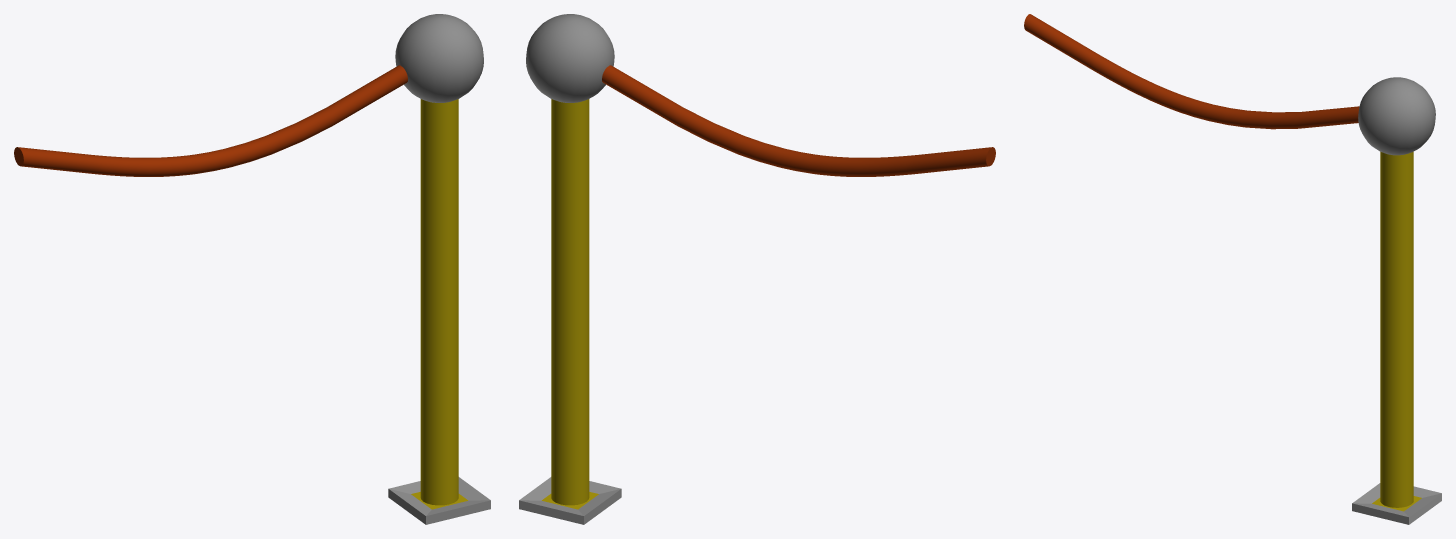
Rendered from Rail_1 Sided.fbx.
The picture shows the model from 3 angles, left to right: view 1: azimuth 30°, elevation 25°; view 2: azimuth 150°, elevation 25°; view 3: azimuth 330°, elevation 25°; orthographic projection. The views are drawn at different scales.
Visible parts, largest first — view 1: pCube3; view 2: pCube3; view 3: pCube3.
Boxes of the visible parts, <box> form: pCube3: <box>14,14,490,524</box>; pCube3: <box>519,14,995,524</box>; pCube3: <box>1024,14,1441,524</box>.
Size of the model in its own units: 7.07 by 7.14 by 1.19.
